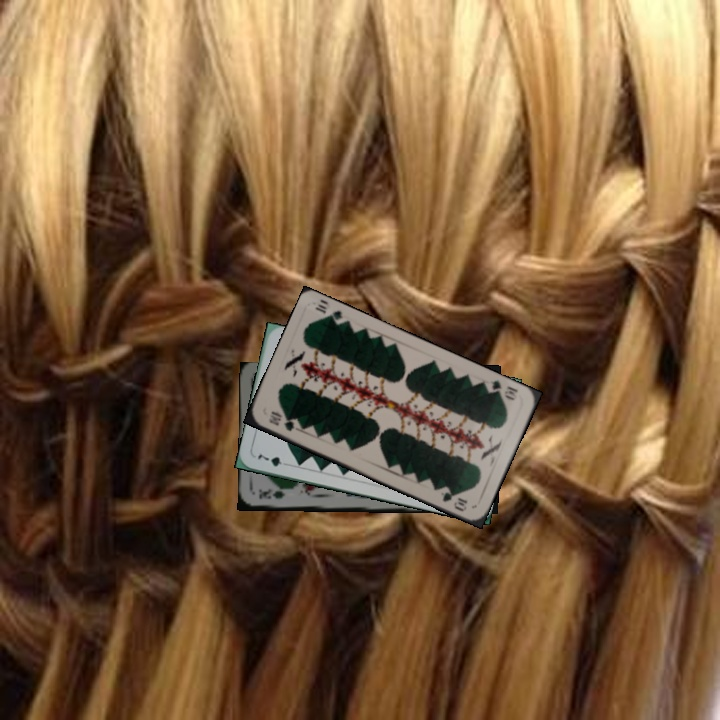G10: (482, 376, 520, 403), (265, 408, 297, 434)
G7: (254, 449, 293, 469)
GK: (255, 486, 287, 501)
